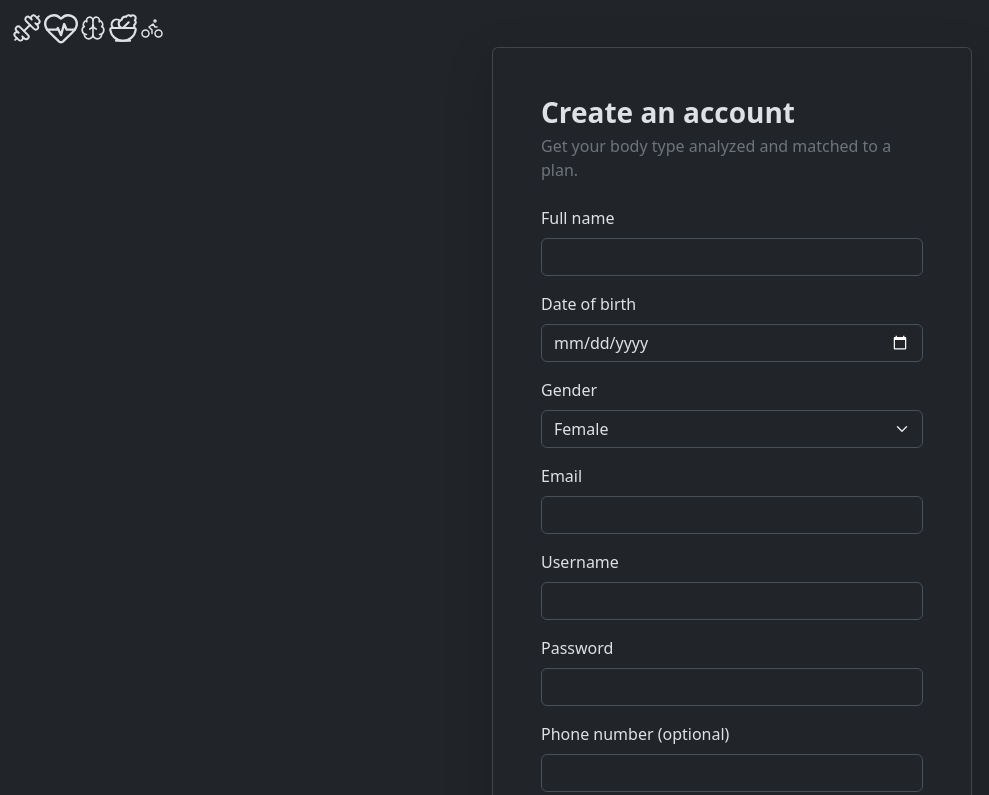
Test: shows a server-side error and does not navigate on failure
The width and height of the screenshot is (989, 795).
Type "Jane Silva" into the field labelled "Full name".
click(732, 257); type("Jane Silva")  # box [541,238,923,276]
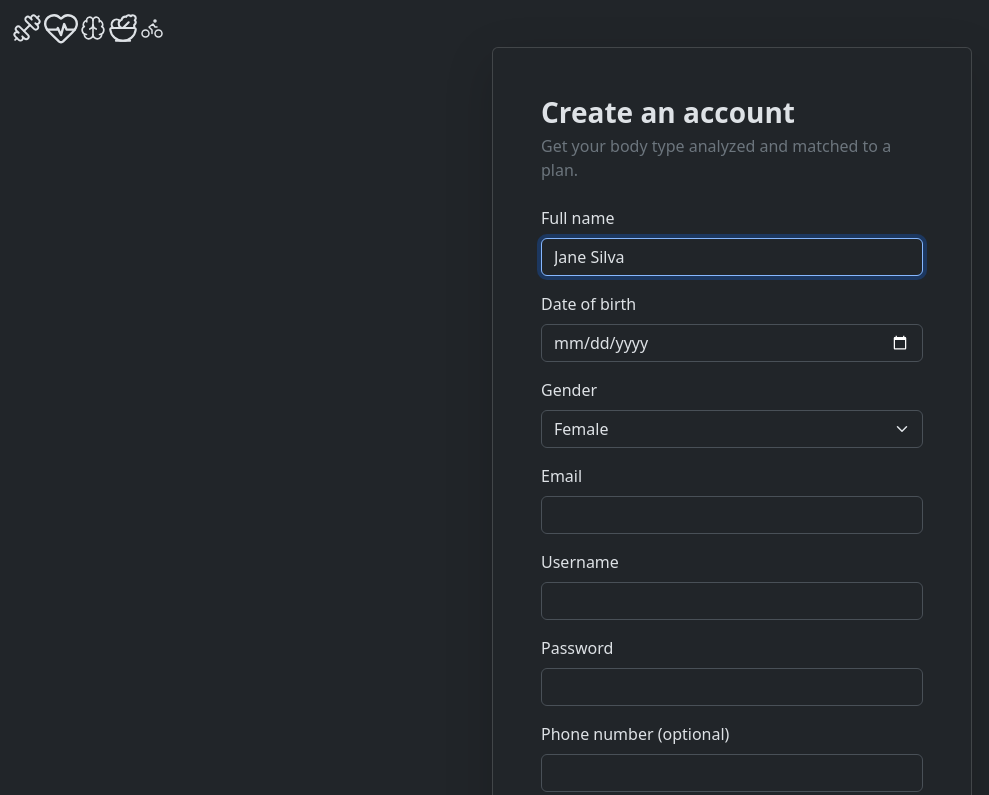
Type "2000-01-01" into the date field labelled "Date of birth".
click(732, 343); type("2000-01-01")  # box [541,324,923,362]
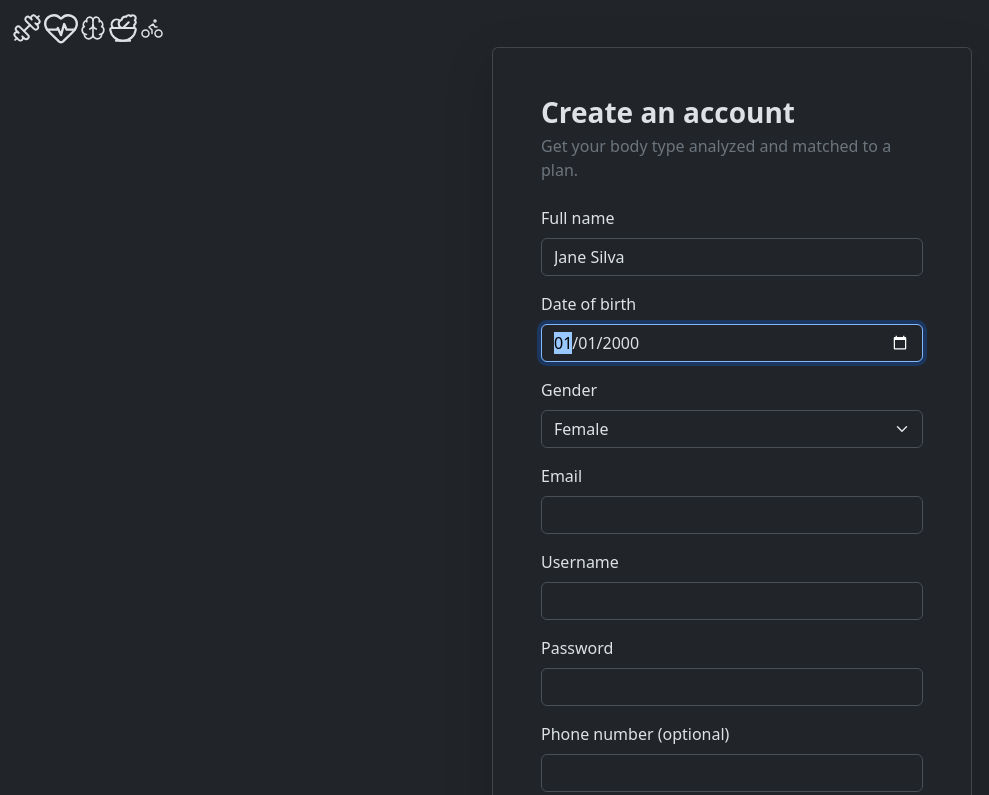
Type "jane@example.com" into the field labelled "Email".
click(732, 515); type("jane@example.com")  # box [541,496,923,534]
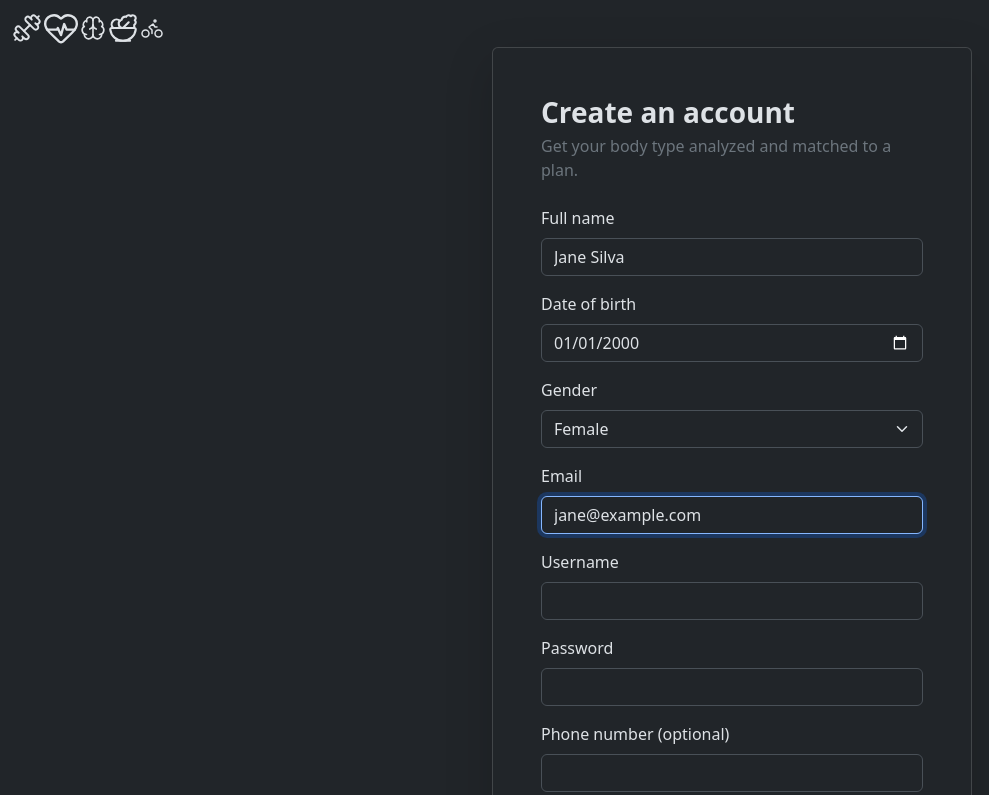
Type "janesilva" into the field labelled "Username".
click(732, 601); type("janesilva")  # box [541,582,923,620]
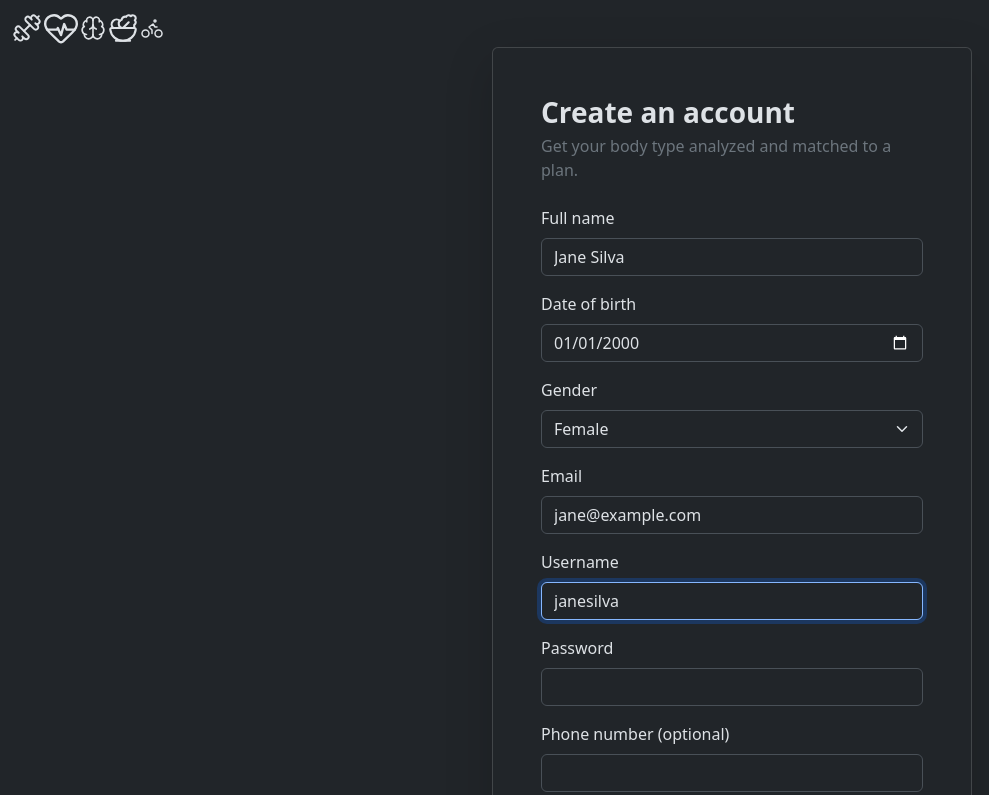
Type "supersecret" into the password field labelled "Password".
click(732, 687); type("supersecret")  # box [541,668,923,706]
(page scrolled)
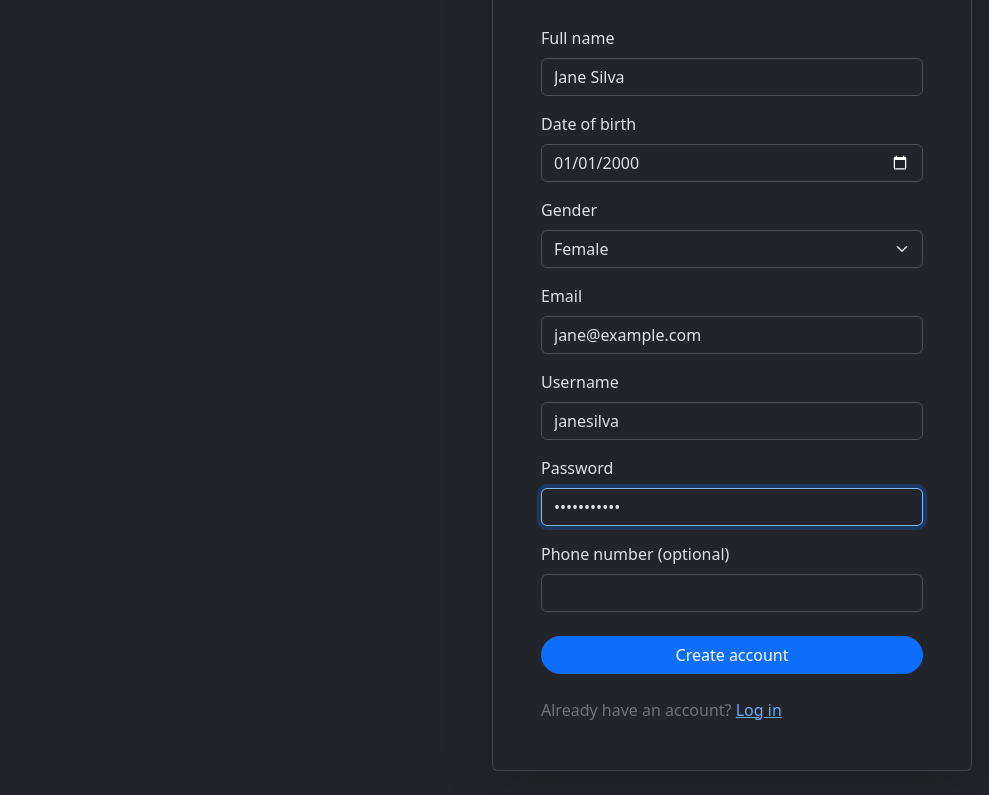
Click the button "Create account".
click(732, 655)  # box [541,636,923,674]
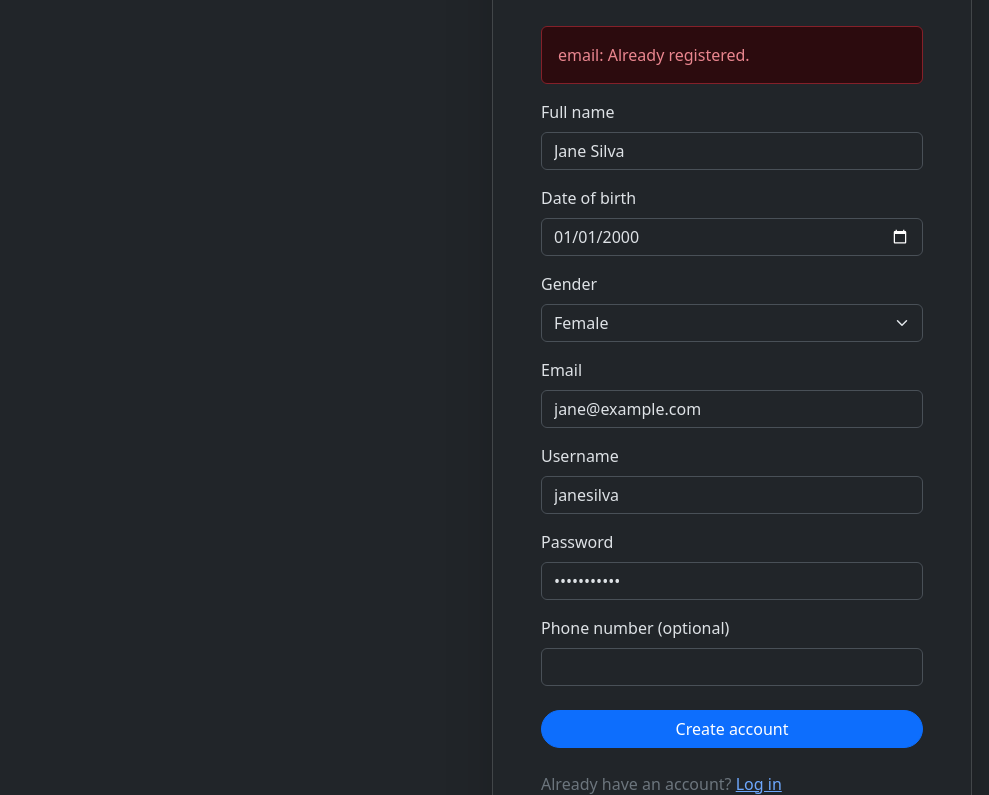
Check: the text "email: Already registered." is shown, box [541,26,923,84]
